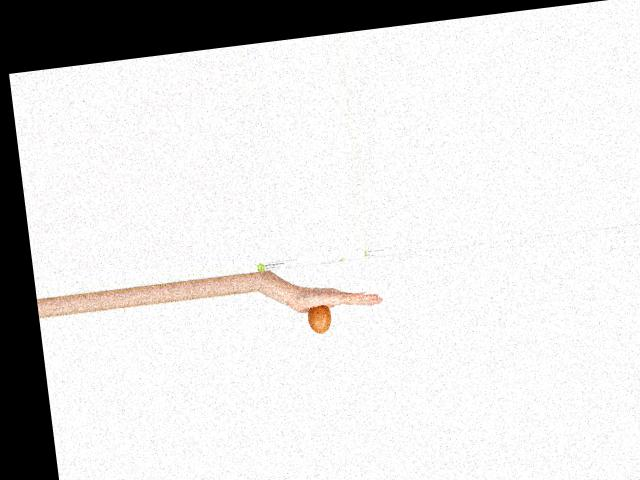egg: (307, 303, 333, 334)
